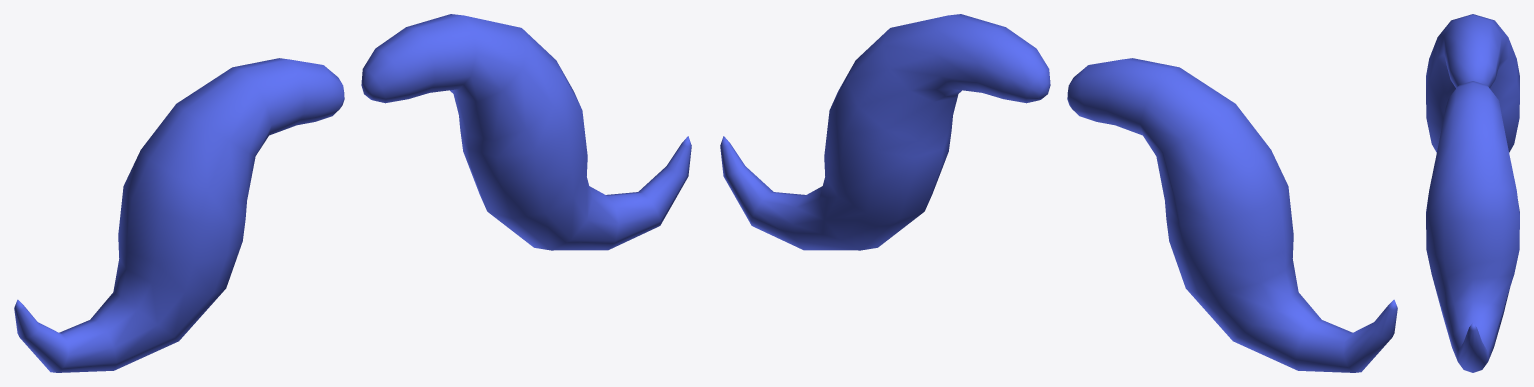
File: Beard_07_03.fbx
3 renders of one model, left to right at view 1: azimuth 30°, elevation 25°; view 2: azimuth 150°, elevation 25°; view 3: azimuth 270°, elevation 25°, orthographic. The views are drawn at different scales.
Parts seen in each view (by area): view 1: Beard_07_03; view 2: Beard_07_03; view 3: Beard_07_03.
Boxes of the visible parts, x1,y1,x2,y2 form: Beard_07_03: (14,14,691,372); Beard_07_03: (720,14,1397,372); Beard_07_03: (1426,14,1519,372).
Size of the model in its own units: 18.3 by 6.9 by 2.82.
